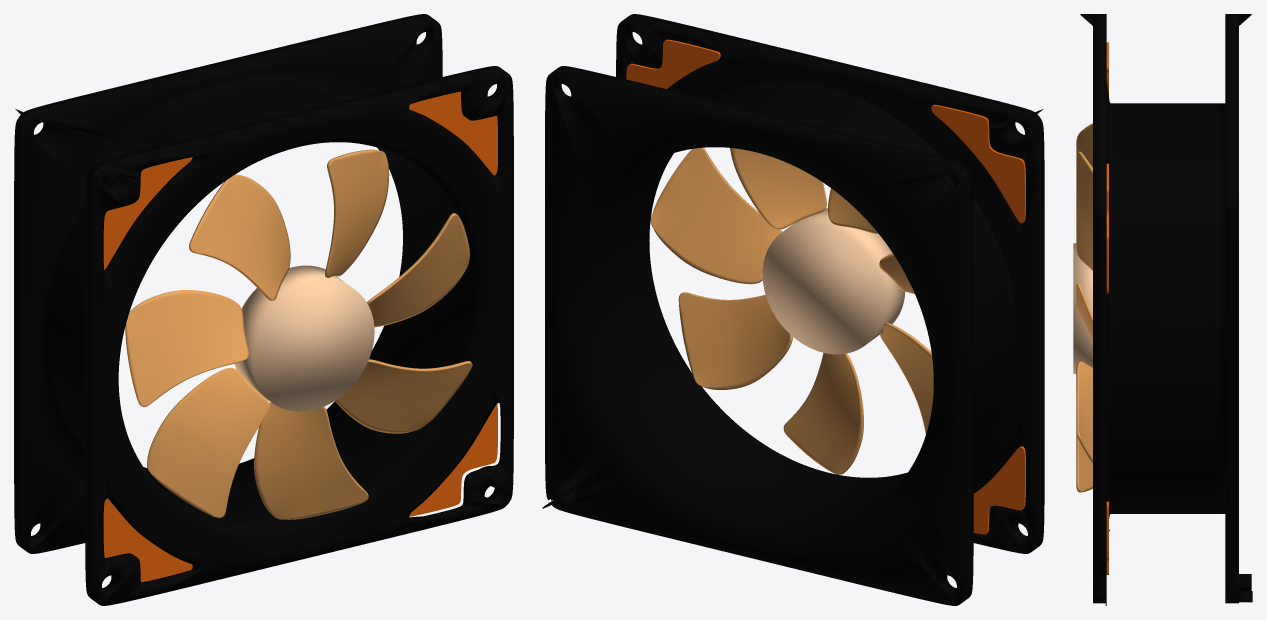
The model's file is Fan.glb.
3 renders of one model, left to right at view 1: azimuth 30°, elevation 25°; view 2: azimuth 150°, elevation 25°; view 3: azimuth 270°, elevation 25°, orthographic. The views are drawn at different scales.
Parts seen in each view (by area): view 1: Vert.001; view 2: Vert.001; view 3: Vert.001.
Boxes of the visible parts, x1,y1,x2,y2 form: Vert.001: (14,14,513,605); Vert.001: (542,14,1044,605); Vert.001: (1073,14,1252,605).
Bounding box in the file's own units: 2.01 × 2.02 × 0.7912.
